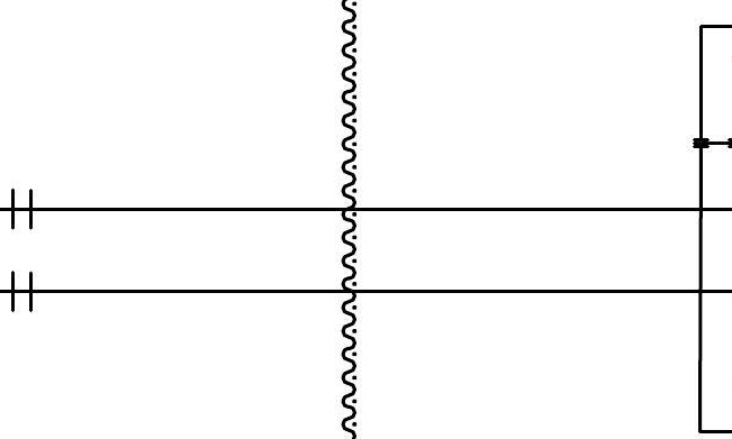115_buffer: (11, 270, 33, 312), (11, 188, 33, 230)
